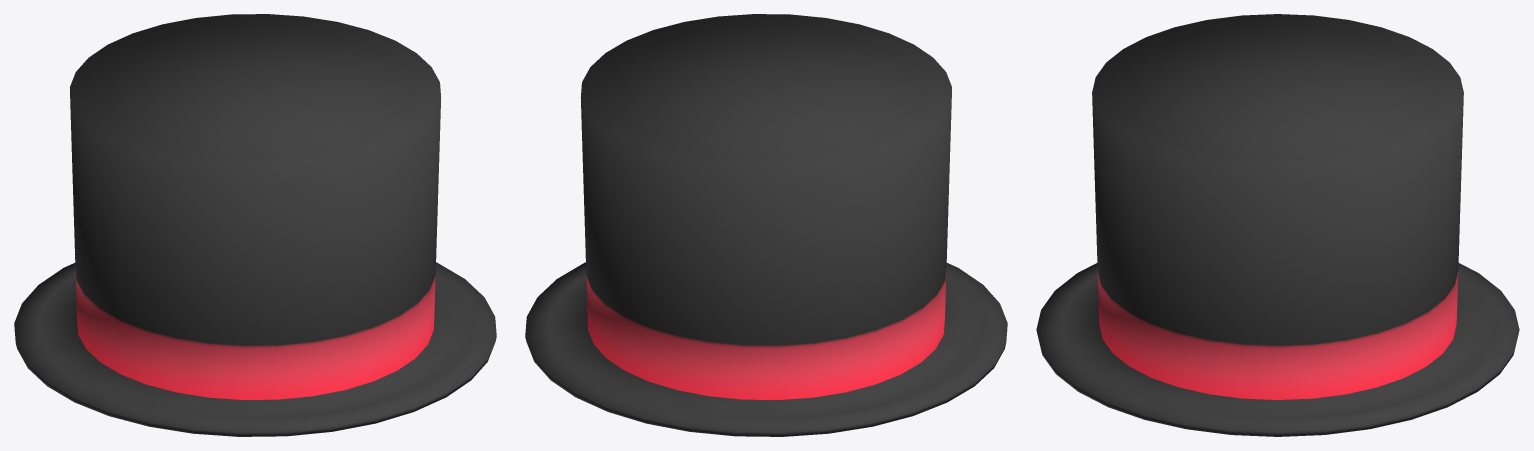
File: TopHat.fbx
3 views of the same model, side by side, from view 1: azimuth 30°, elevation 25°; view 2: azimuth 150°, elevation 25°; view 3: azimuth 270°, elevation 25° (orthographic).
Parts seen in each view (by area): view 1: Tophat; view 2: Tophat; view 3: Tophat.
Boxes of the visible parts, box(x1,y1,x2,y2) form: Tophat: box(14, 14, 496, 436); Tophat: box(525, 14, 1007, 436); Tophat: box(1036, 14, 1519, 436).
Size of the model in its own units: 43.72 by 24.51 by 43.72.
